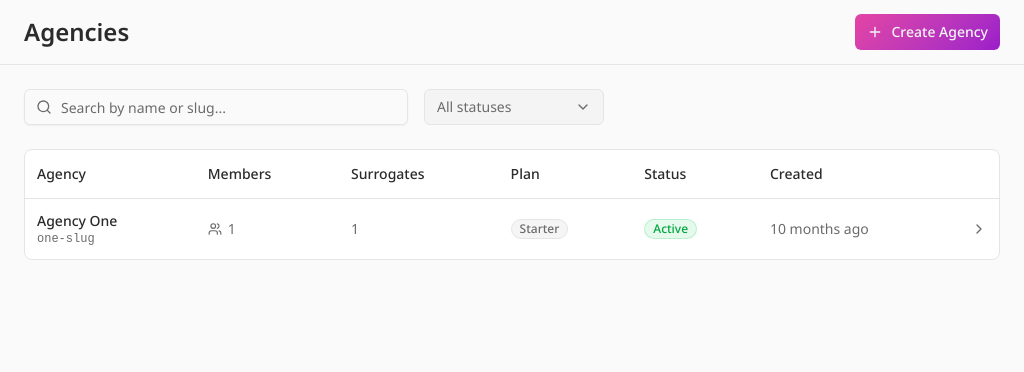
Scenario: Ops agencies data loading › shows a filtered empty state that clears the search
Expected: the text "Agency One" is shown, left=37, top=210, right=117, bottom=230
Type "zzz" into the field named "Search agencies" at (216, 107), box left=24, top=89, right=408, bottom=125
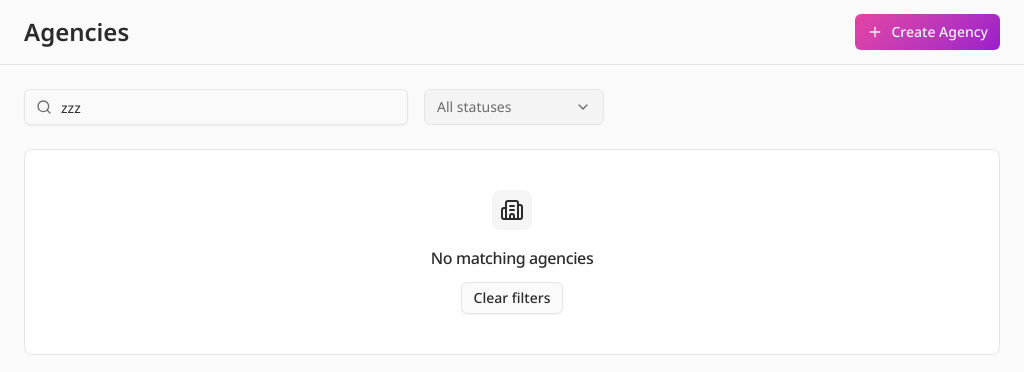
Result: the heading "No matching agencies" is shown at left=431, top=246, right=593, bottom=270
Click the button "Clear filters" at (512, 298), box left=460, top=282, right=564, bottom=314
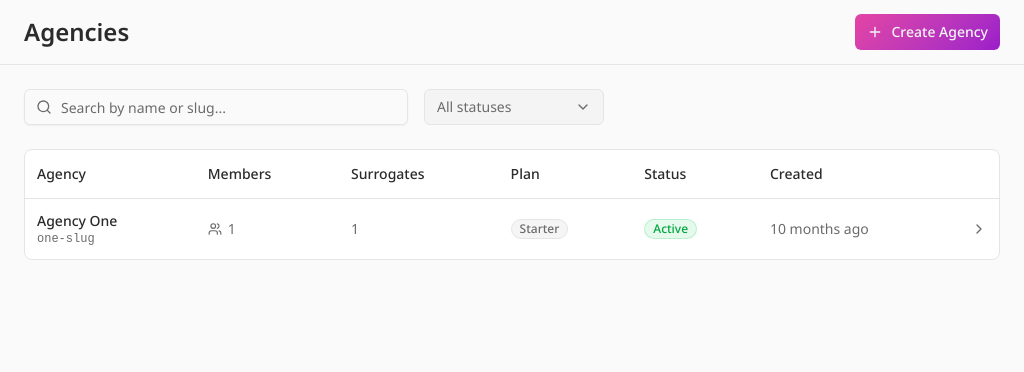
Result: the text "Agency One" is shown at left=37, top=210, right=117, bottom=230
Result: the field named "Search agencies" is empty at left=24, top=89, right=408, bottom=125
